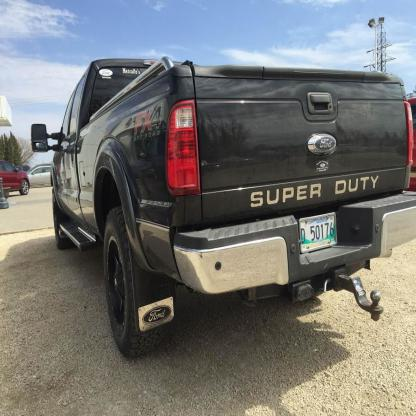Car: (33, 64, 415, 353), (0, 160, 30, 196), (27, 161, 53, 187), (26, 163, 52, 187)
Truck: (31, 55, 415, 358)
